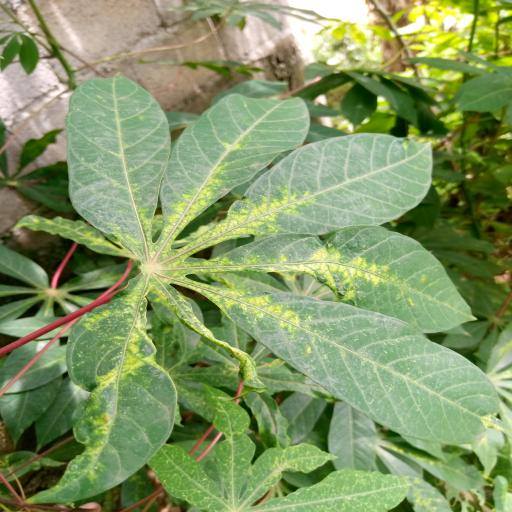Cassava_Mosaic: (17, 67, 508, 504), (129, 434, 427, 512)
